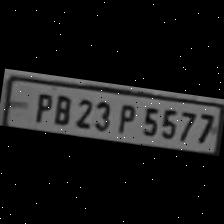2: (71, 94, 95, 128)
3: (91, 95, 115, 131)
5: (137, 102, 162, 138), (156, 103, 181, 139)
7: (193, 110, 217, 144), (175, 107, 197, 142)
B: (50, 89, 75, 125)
P: (110, 98, 138, 134), (27, 88, 54, 124)
